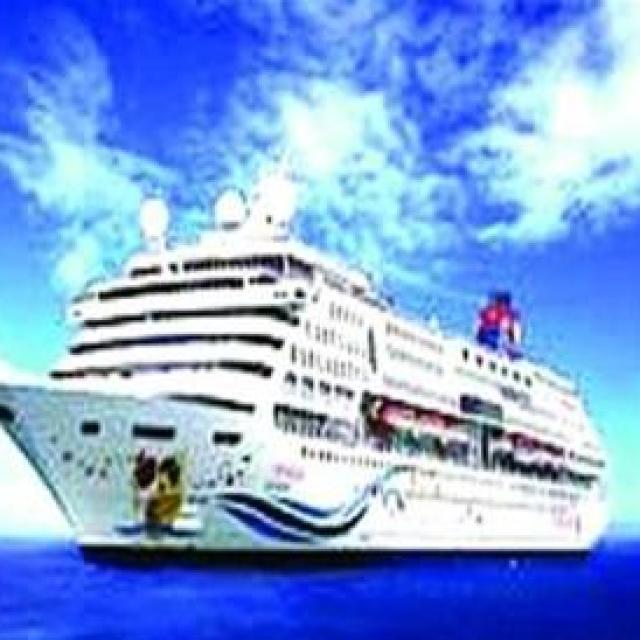passenger ship: (0, 189, 624, 565)
